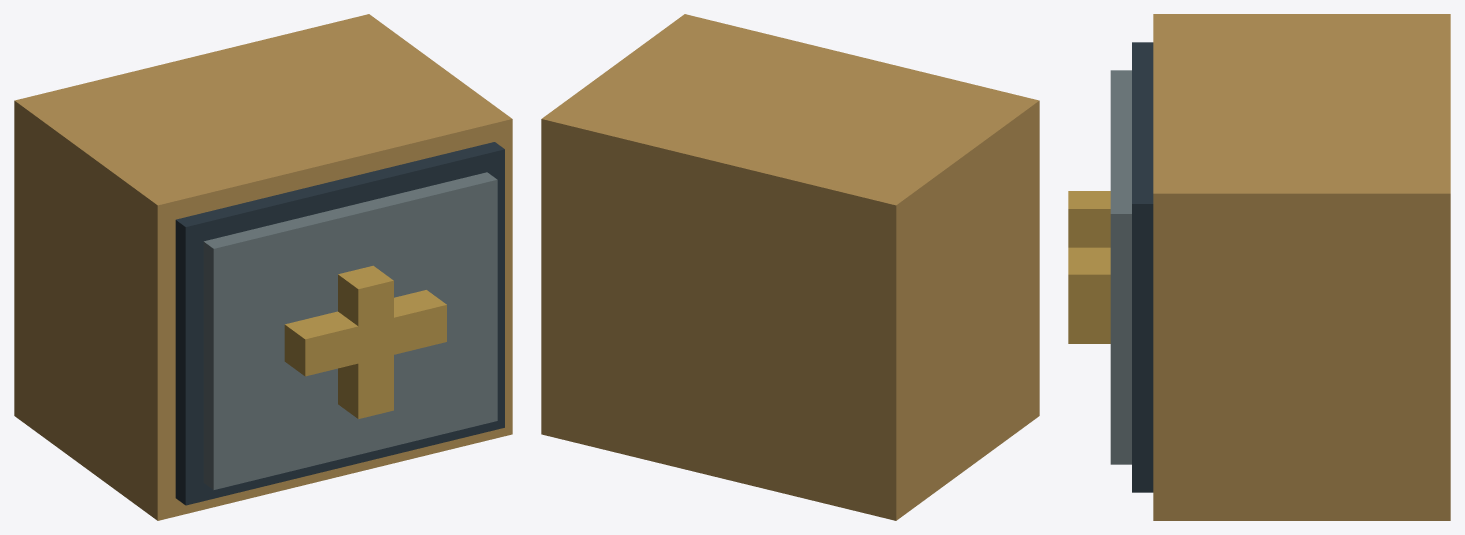
File: construction-16.glb
The picture shows the model from 3 angles, left to right: view 1: azimuth 30°, elevation 25°; view 2: azimuth 150°, elevation 25°; view 3: azimuth 270°, elevation 25°; orthographic projection. The views are drawn at different scales.
Visible parts, largest first — view 1: Tool box; view 2: Tool box; view 3: Tool box.
Part boxes in pixels (box(x1,y1,x2,y2)): Tool box: box(14, 14, 512, 520); Tool box: box(541, 14, 1039, 520); Tool box: box(1068, 14, 1450, 520).
Size of the model in its own units: 1.6 by 1.36 by 1.44.
